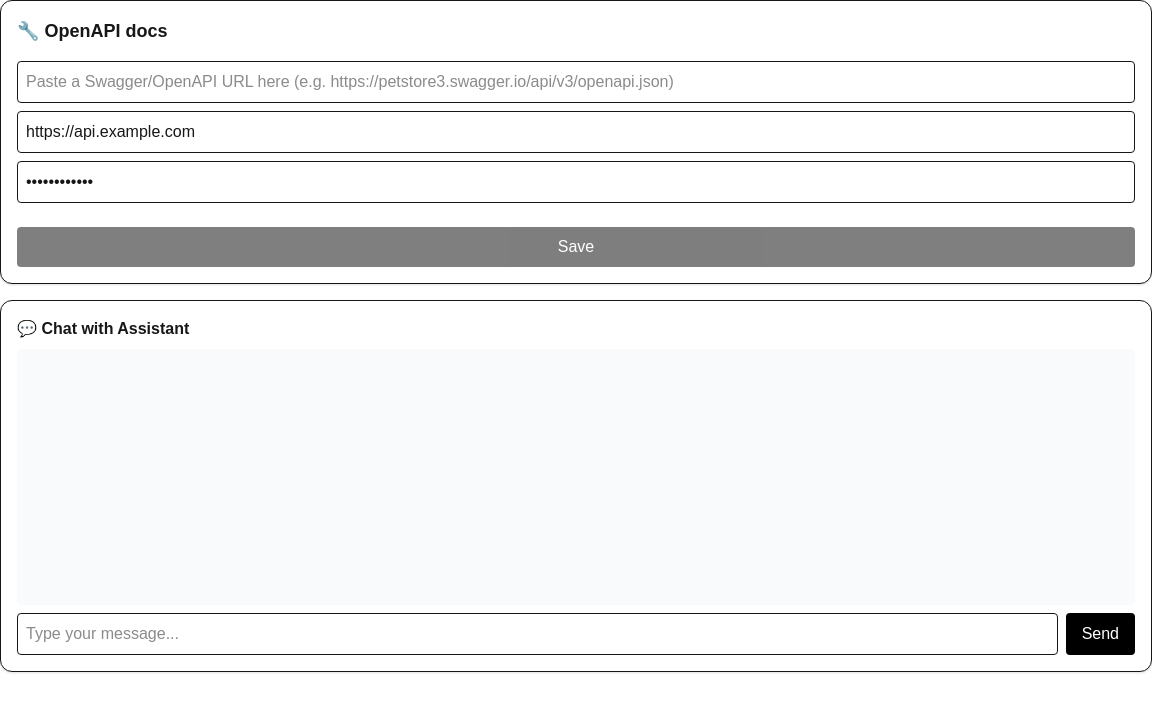
Test case: ChatWindow › handles API error responses
(page scrolled)
# Type and send a message
Type "Cause error" into the field with placeholder "Type your message..." at (537,634), box x1=17 y1=613 x2=1058 y2=655
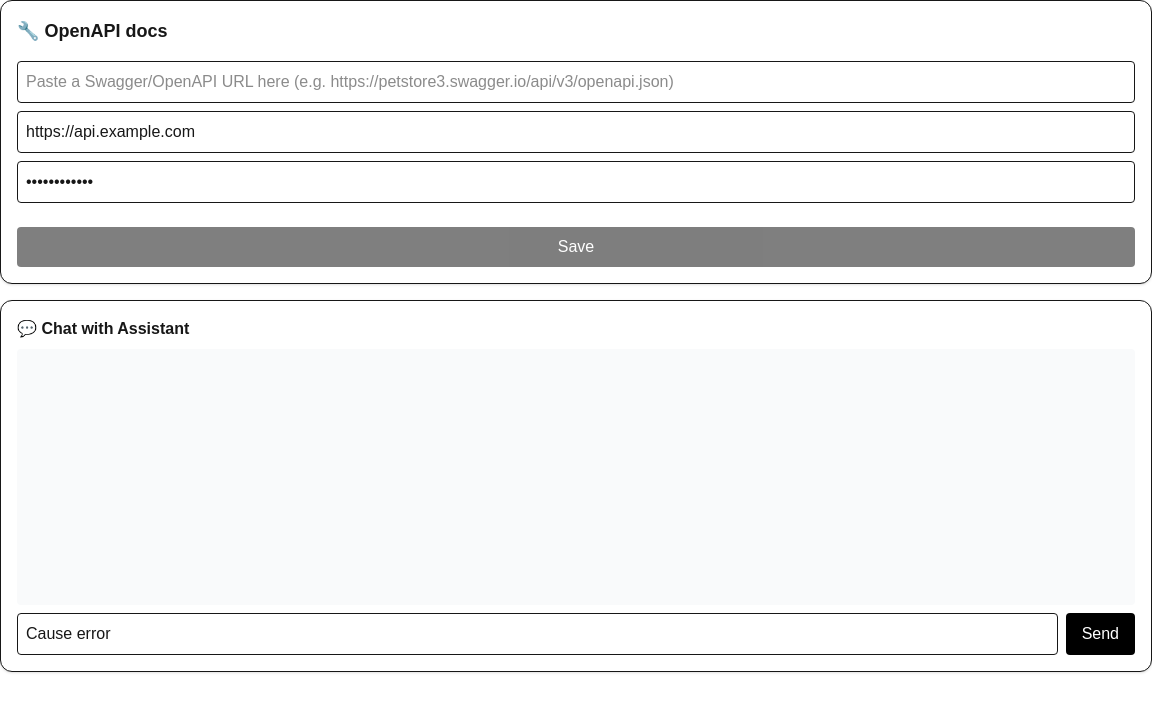
Click the button named "Send message" at (1100,634), box x1=1066 y1=613 x2=1135 y2=655
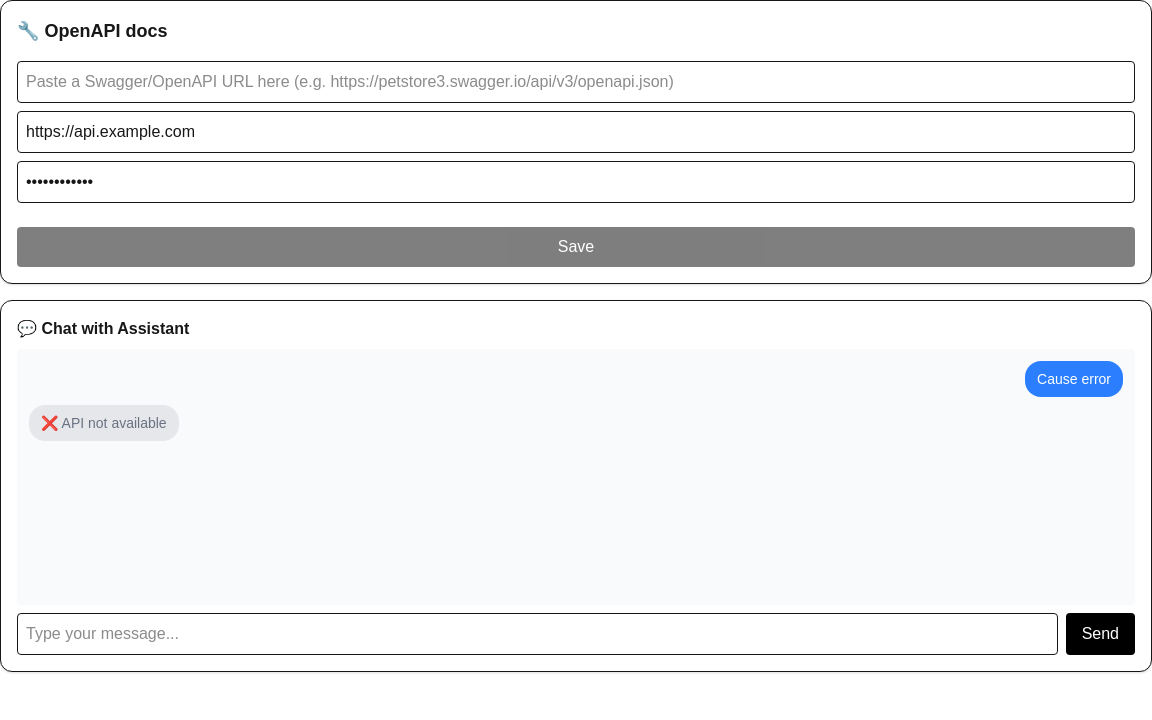
Expected: the text "❌ API not available" is shown, x1=29 y1=405 x2=179 y2=441
